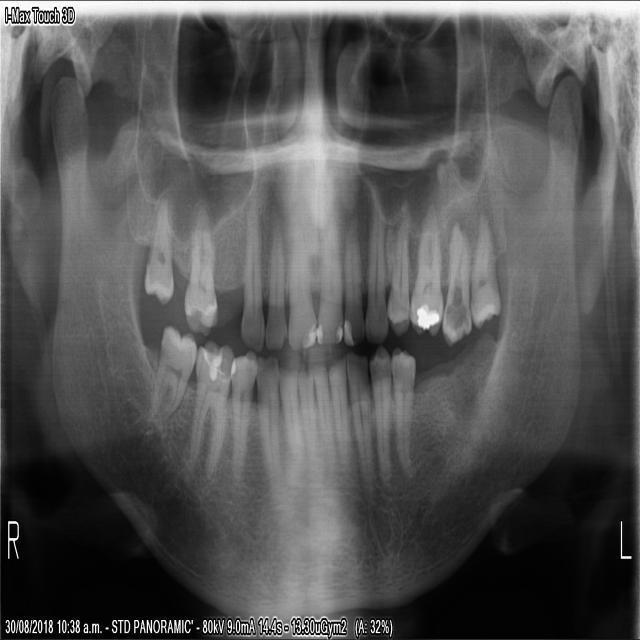LCD: (343, 351, 375, 496)
LCU: (363, 213, 388, 347)
LID: (327, 360, 354, 462), (313, 363, 340, 458)
LIU: (315, 208, 342, 349), (341, 212, 365, 348)
LMU: (440, 204, 474, 347), (466, 213, 502, 331)
LPMD: (389, 344, 417, 483), (369, 346, 391, 487)
LPMU: (407, 203, 443, 338), (384, 209, 409, 338)
RCD: (255, 353, 280, 465)
RCU: (237, 202, 263, 348)
RID: (296, 368, 321, 476), (277, 366, 298, 467)
RIU: (284, 215, 316, 353), (263, 213, 287, 354)
RMD: (184, 336, 235, 481), (147, 322, 197, 422)
RMU: (179, 192, 219, 339), (139, 191, 174, 306)
RPMD: (229, 347, 259, 479)
